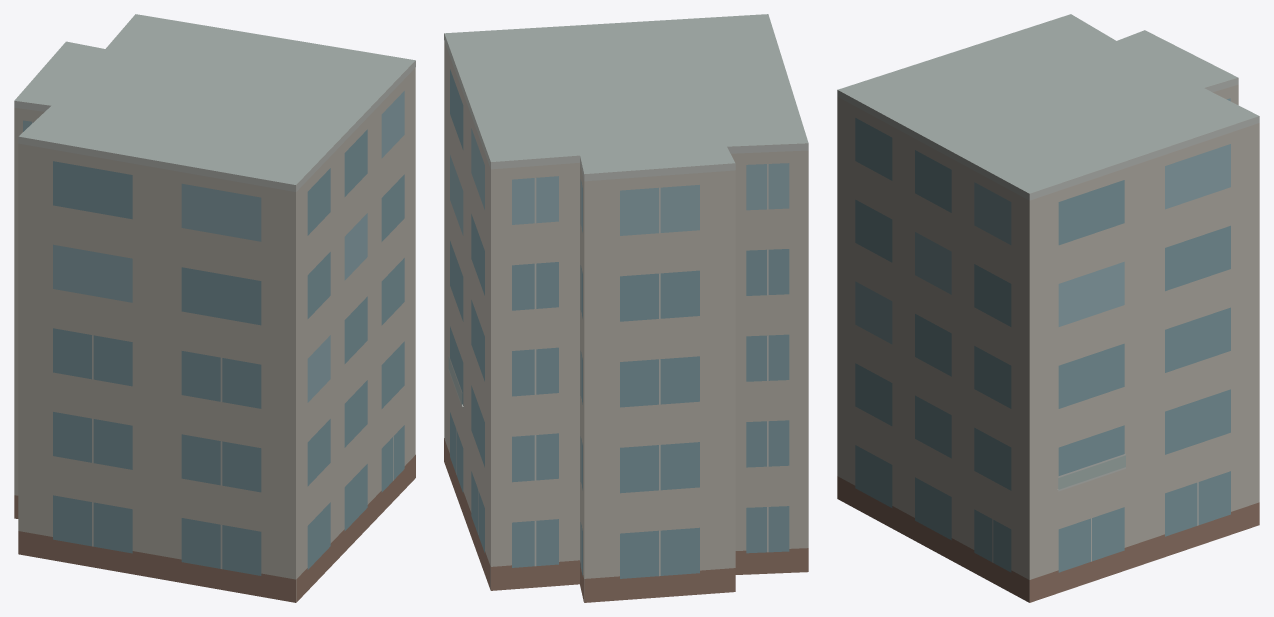
Rendered from survey-upis-32762115.glb.
3 renders of one model, left to right at view 1: azimuth 30°, elevation 25°; view 2: azimuth 150°, elevation 25°; view 3: azimuth 270°, elevation 25°, orthographic. The views are drawn at different scales.
Visible parts, largest first — view 1: survey-upis-32762115.tmp; view 2: survey-upis-32762115.tmp; view 3: survey-upis-32762115.tmp.
Boxes of the visible parts, x1,y1,x2,y2 form: survey-upis-32762115.tmp: [14, 14, 415, 602]; survey-upis-32762115.tmp: [444, 14, 808, 602]; survey-upis-32762115.tmp: [837, 14, 1259, 602].
Size of the model in its own units: 13.67 by 14.5 by 13.57.
